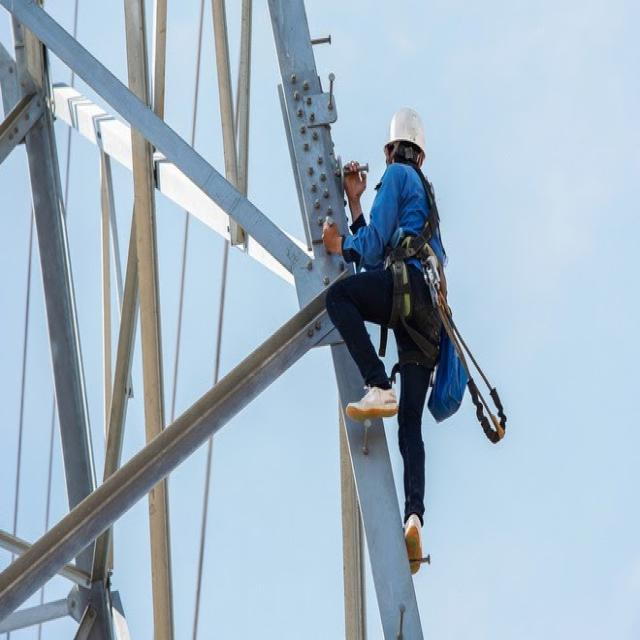shoes: (335, 379, 400, 422), (401, 508, 426, 580)
